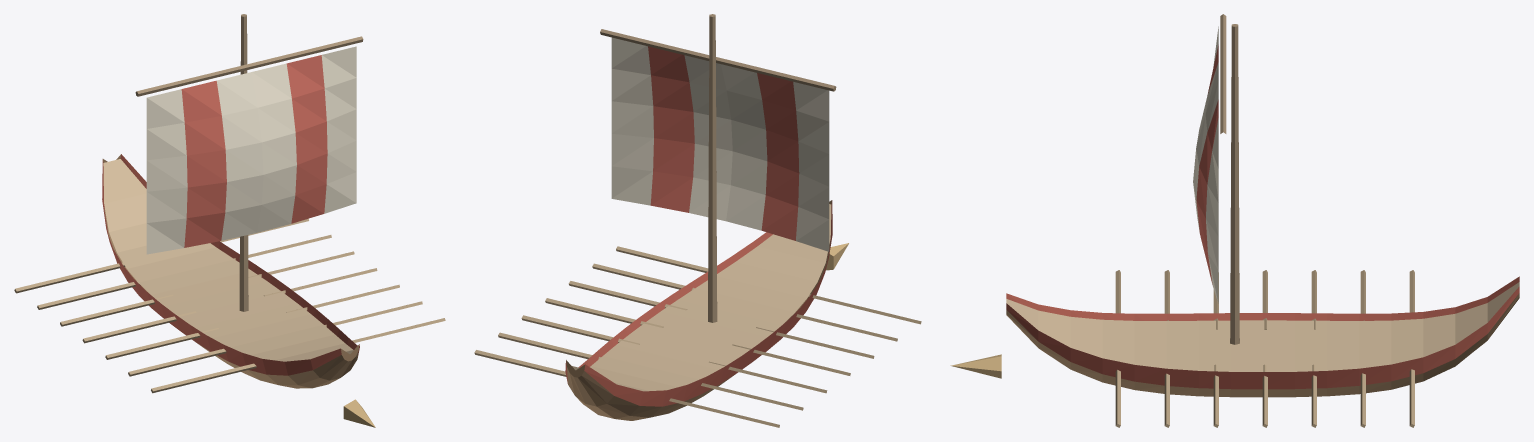
Rendered from ship.gltf.
3 renders of one model, left to right at view 1: azimuth 30°, elevation 25°; view 2: azimuth 150°, elevation 25°; view 3: azimuth 270°, elevation 25°, orthographic. The views are drawn at different scales.
Visible parts, largest first — view 1: ship; view 2: ship; view 3: ship.
Boxes of the visible parts, x1=… form: ship: x1=14, y1=14, x2=445, y2=427; ship: x1=474, y1=14, x2=921, y2=427; ship: x1=950, y1=14, x2=1519, y2=427.
Bounding box in the file's own units: 7.8 × 8.57 × 12.2.
